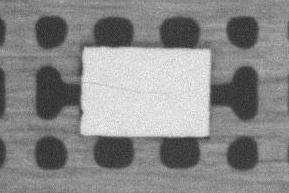DIE_CRACK: (84, 80, 167, 95)
